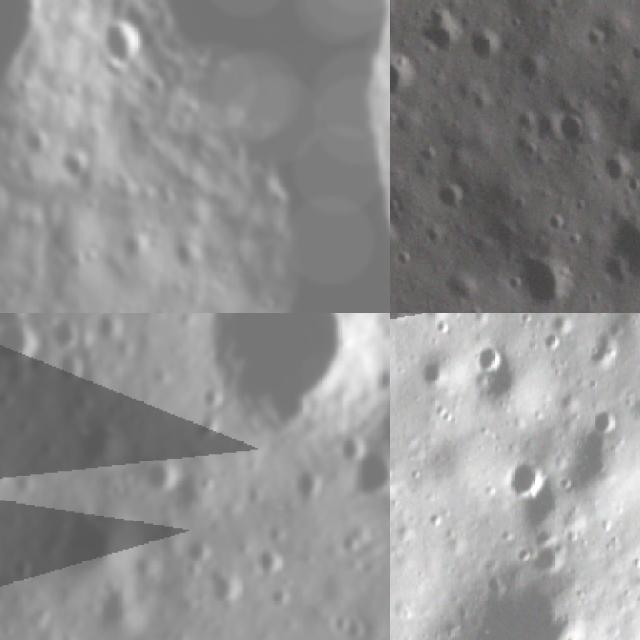crater: (172, 313, 381, 459), (32, 491, 150, 599), (95, 0, 154, 74), (340, 433, 390, 507), (66, 413, 125, 474), (86, 582, 146, 639), (515, 258, 578, 310), (46, 138, 100, 195), (197, 564, 250, 618), (497, 458, 557, 503), (136, 454, 188, 502), (429, 168, 476, 219), (547, 104, 594, 152), (41, 314, 89, 360), (329, 422, 375, 468), (246, 542, 294, 584), (325, 603, 376, 640), (284, 464, 326, 508), (390, 51, 427, 100), (188, 377, 228, 422), (256, 577, 300, 615), (329, 529, 373, 563), (472, 340, 511, 378), (51, 352, 91, 389), (0, 547, 34, 590)
